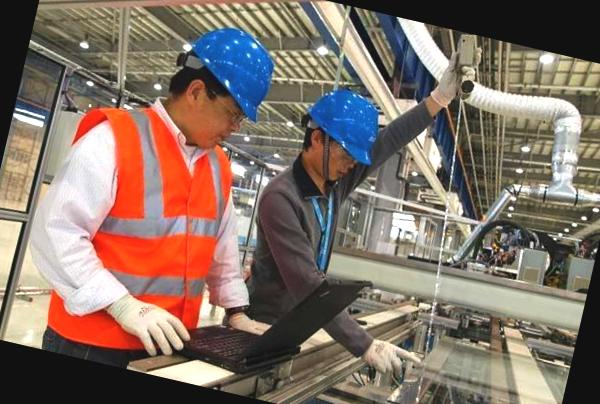helmet: (164, 17, 286, 127), (292, 78, 396, 172)
no_vest: (242, 154, 350, 296)
person: (7, 0, 290, 383), (225, 72, 394, 372)
